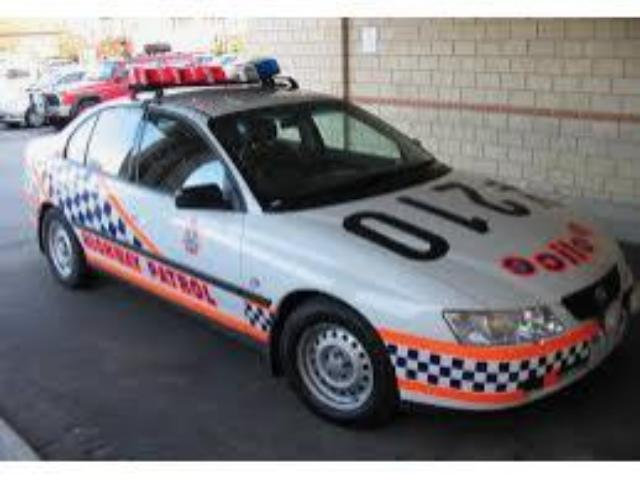police_car: (20, 54, 640, 435)
